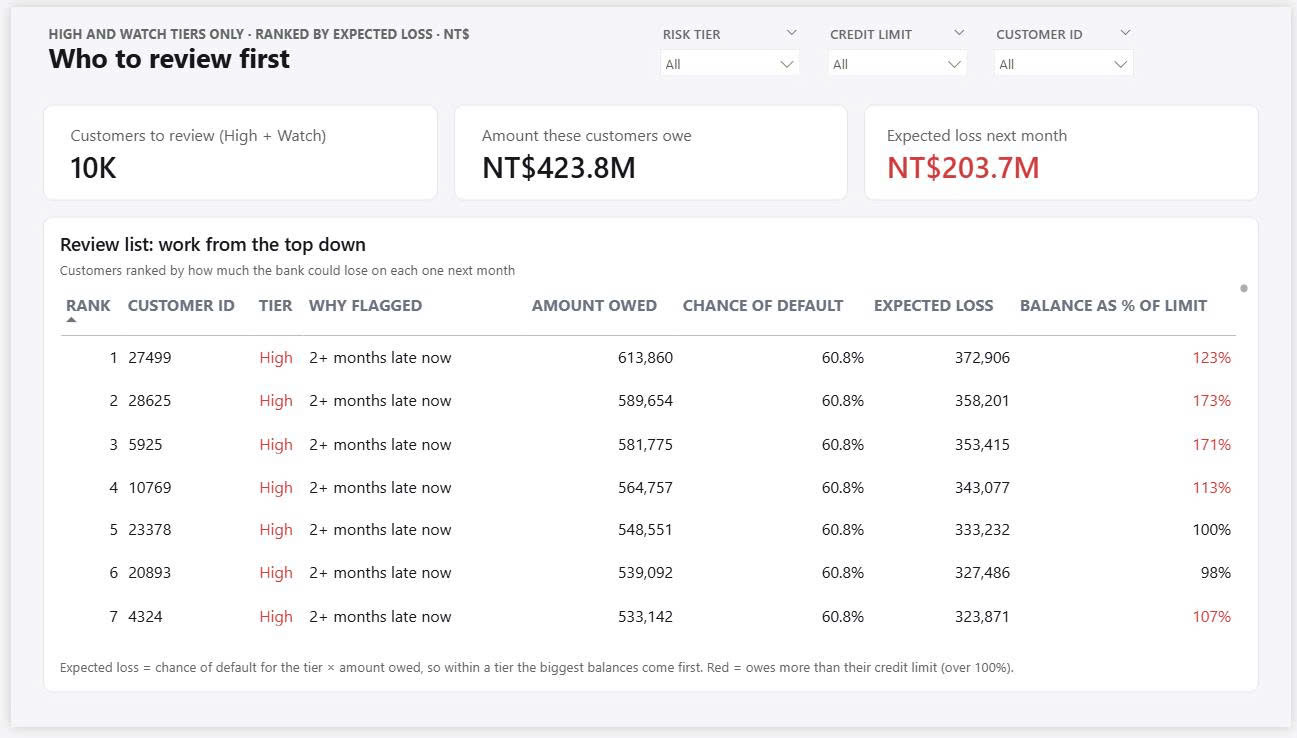

Layout of this report page (visuals, bound fields, positions):
{"tool":"powerbi","page":{"name":"Who to review first","canvas":[1280,720],"ordinal":1},"visuals":[{"type":"textbox","box":[32,28,400,50],"z":0},{"type":"textbox","box":[44.3,645.7,1140,51.4],"z":1000},{"type":"cardVisual","fields":{"Data":["Risk.Customer Count"]},"box":[42.3,108.5,311.3,78.9],"z":2000},{"type":"cardVisual","fields":{"Data":["Statements.Amount Owed"]},"box":[453.5,108.5,308.5,78.9],"z":3000},{"type":"tableEx","title":"Review list: work from the top down","fields":{"Values":["Risk.review_priority","Customers.customer_id","Customers.risk_tier","Customers.flag_reason","Risk.ead","Risk.tier_pd","Risk.expected_loss","Risk.utilisation"]},"box":[44.3,224.3,1198.6,411.4],"z":4000},{"type":"slicer","fields":{"Values":["Customers.risk_tier"]},"box":[639.3,12.1,160,60],"z":5000},{"type":"slicer","fields":{"Values":["Customers.limit_band"]},"box":[805.7,12.9,160,60],"z":6000},{"type":"slicer","fields":{"Values":["Customers.customer_id"]},"box":[972.9,12.9,160,60],"z":7000},{"type":"textbox","box":[32.4,12.7,567.6,50.7],"z":8000},{"type":"cardVisual","fields":{"Data":["Risk.Expected Loss"]},"box":[858.6,108.6,238.6,78.6],"z":9000}]}

Visuals, with their boxes in screenshot pixels (x1, y1, x2, y2), scaled from the page's 1280x720 canvas onto the 1297x738 screenshot:
textbox: bbox(32, 29, 438, 80)
textbox: bbox(45, 662, 1200, 715)
cardVisual - Risk.Customer Count: bbox(43, 111, 358, 192)
cardVisual - Statements.Amount Owed: bbox(460, 111, 772, 192)
"Review list: work from the top down" tableEx: bbox(45, 230, 1259, 652)
slicer - Customers.risk_tier: bbox(648, 12, 810, 74)
slicer - Customers.limit_band: bbox(816, 13, 979, 75)
slicer - Customers.customer_id: bbox(986, 13, 1148, 75)
textbox: bbox(33, 13, 608, 65)
cardVisual - Risk.Expected Loss: bbox(870, 111, 1112, 192)
